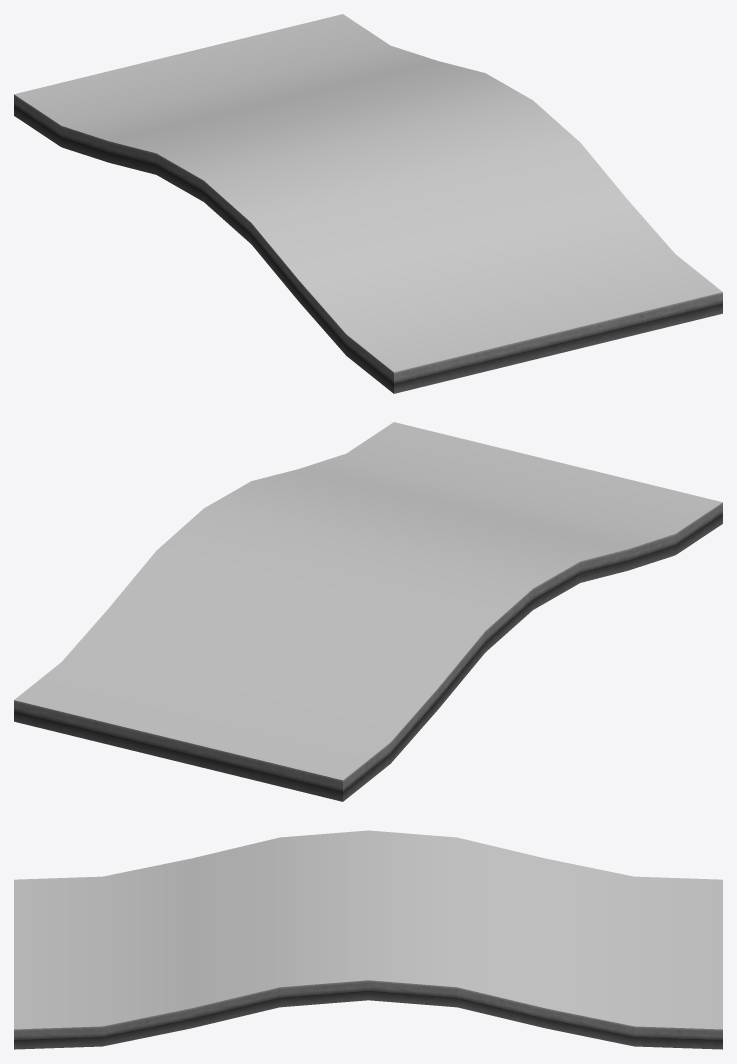
The model's file is StrHill02.fbx.
3 views of the same model, one above another, from view 1: azimuth 30°, elevation 25°; view 2: azimuth 150°, elevation 25°; view 3: azimuth 270°, elevation 25° (orthographic). The views are drawn at different scales.
Visible parts, largest first — view 1: Empty_Mesh; view 2: Empty_Mesh; view 3: Empty_Mesh.
Boxes of the visible parts, box(x1,y1,x2,y2) form: Empty_Mesh: box(14, 14, 722, 393); Empty_Mesh: box(14, 422, 722, 801); Empty_Mesh: box(14, 830, 722, 1049).
Bounding box in the file's own units: 1600 × 345 × 3200.
